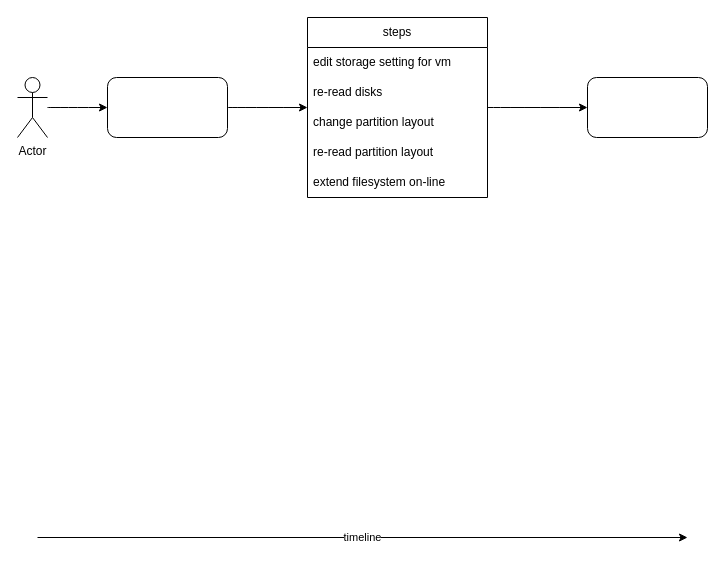
Image size: 725x563. Some labels were removed from this diagram. The centre of each missing label's shape, as x and y in pixels:
"done" goes at pixel 647 107.
"hypervisor webui" goes at pixel 167 107.
